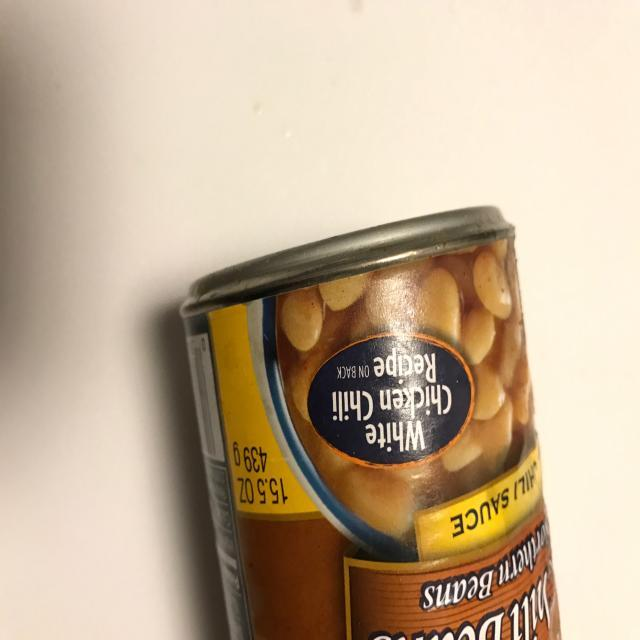metal: (177, 205, 563, 640)
